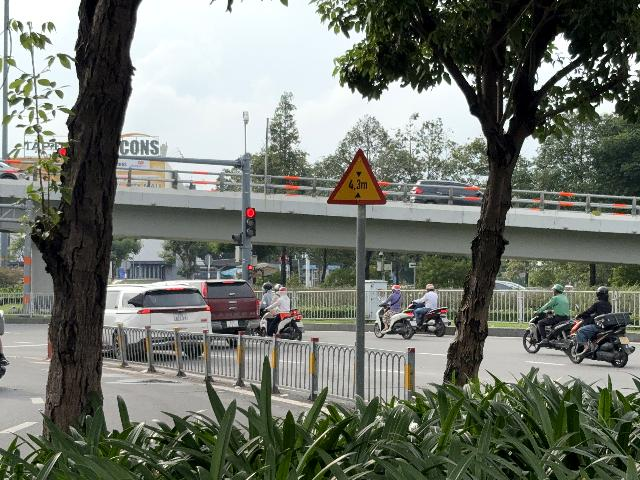chieu-cao-tinh-khong-thuc-te: (327, 148, 387, 204)
